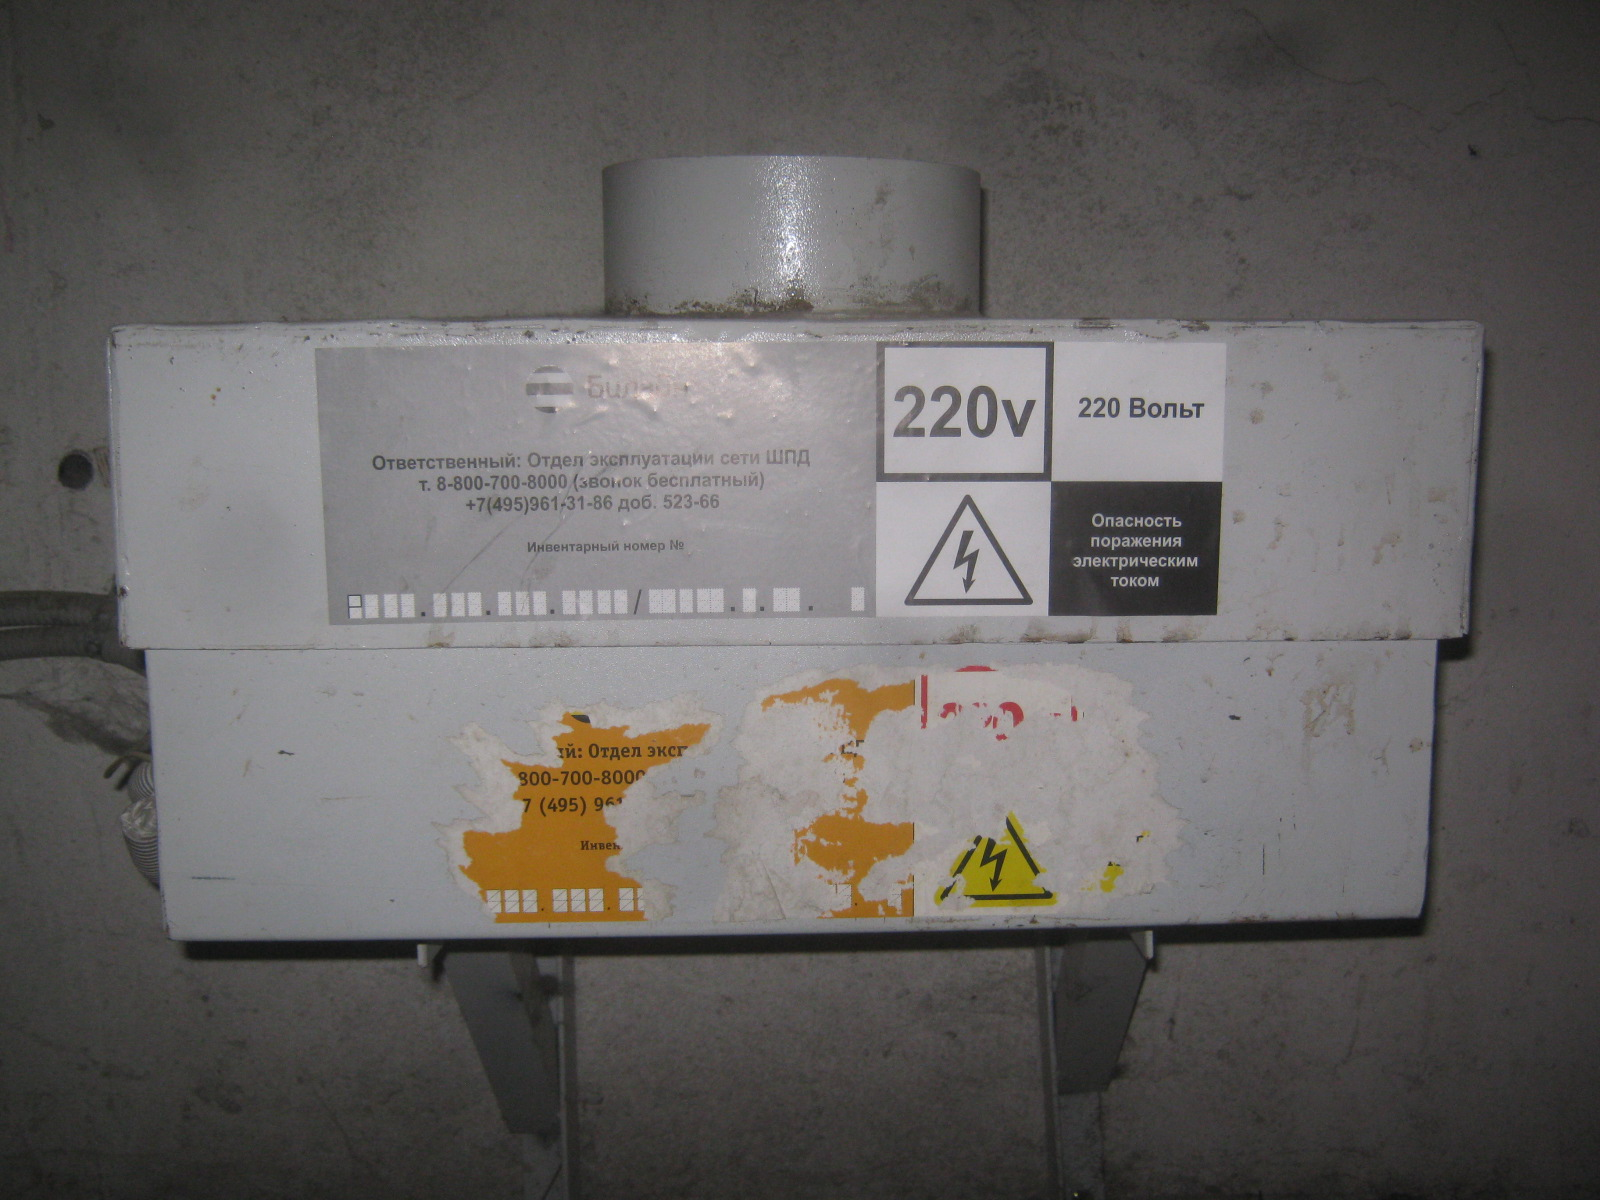shta-ps: (81, 129, 1517, 973)
